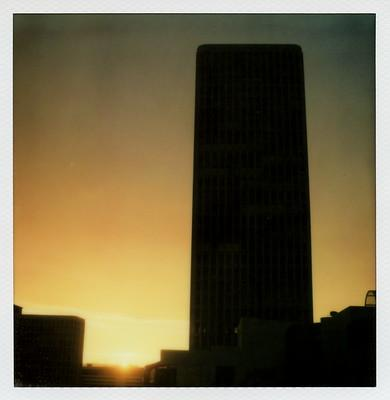building: (191, 40, 317, 382)
